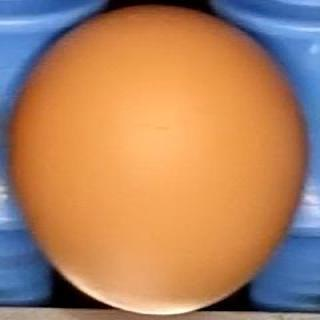Telur: (2, 5, 313, 312)
